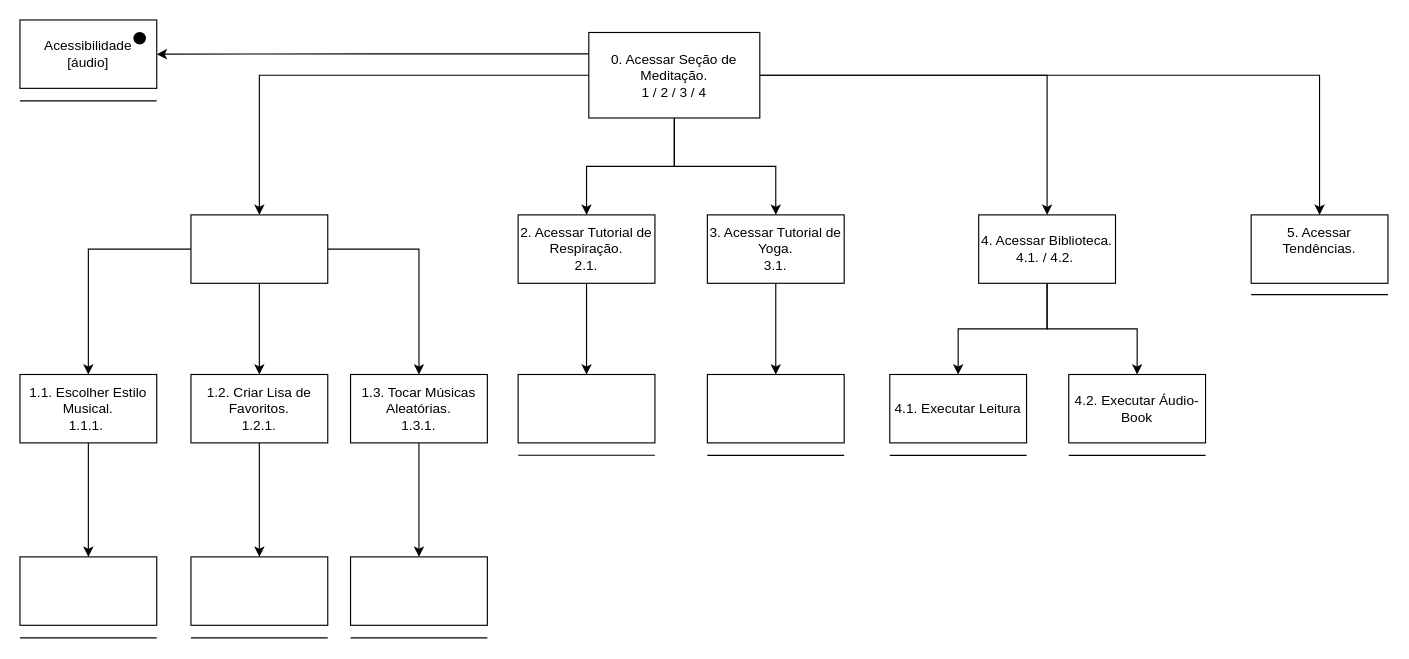
Some shapes in this 1409 by 659 pixel diagram are drawn without their labels. Here are the shapes that lost their labels. From the top down, the centre of each, then its label:
At [259,248]: "1. Acessar Catálogo Músical. 1.1. / 1.2. / 1.3.".
At [586,408]: "2.1. Tocar Tutorial de Respiração".
At [775,408]: "3.1. Tocar Tutorial de Yoga".
At [88,590]: "1.1.1. Ouvir Música".
At [259,590]: "1.2.1. Ouvir Lista de Favoritos".
At [418,590]: "1.3.1. Ouvir Músicas Aleatórias".
